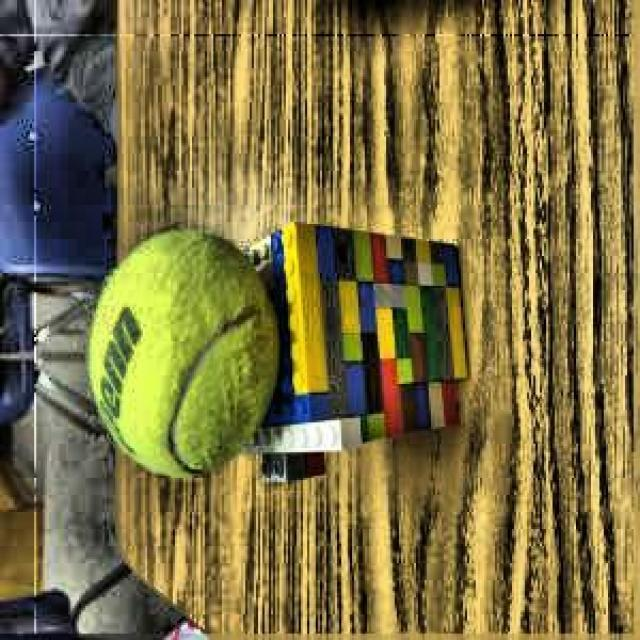tennis-ball: (81, 228, 279, 482)
